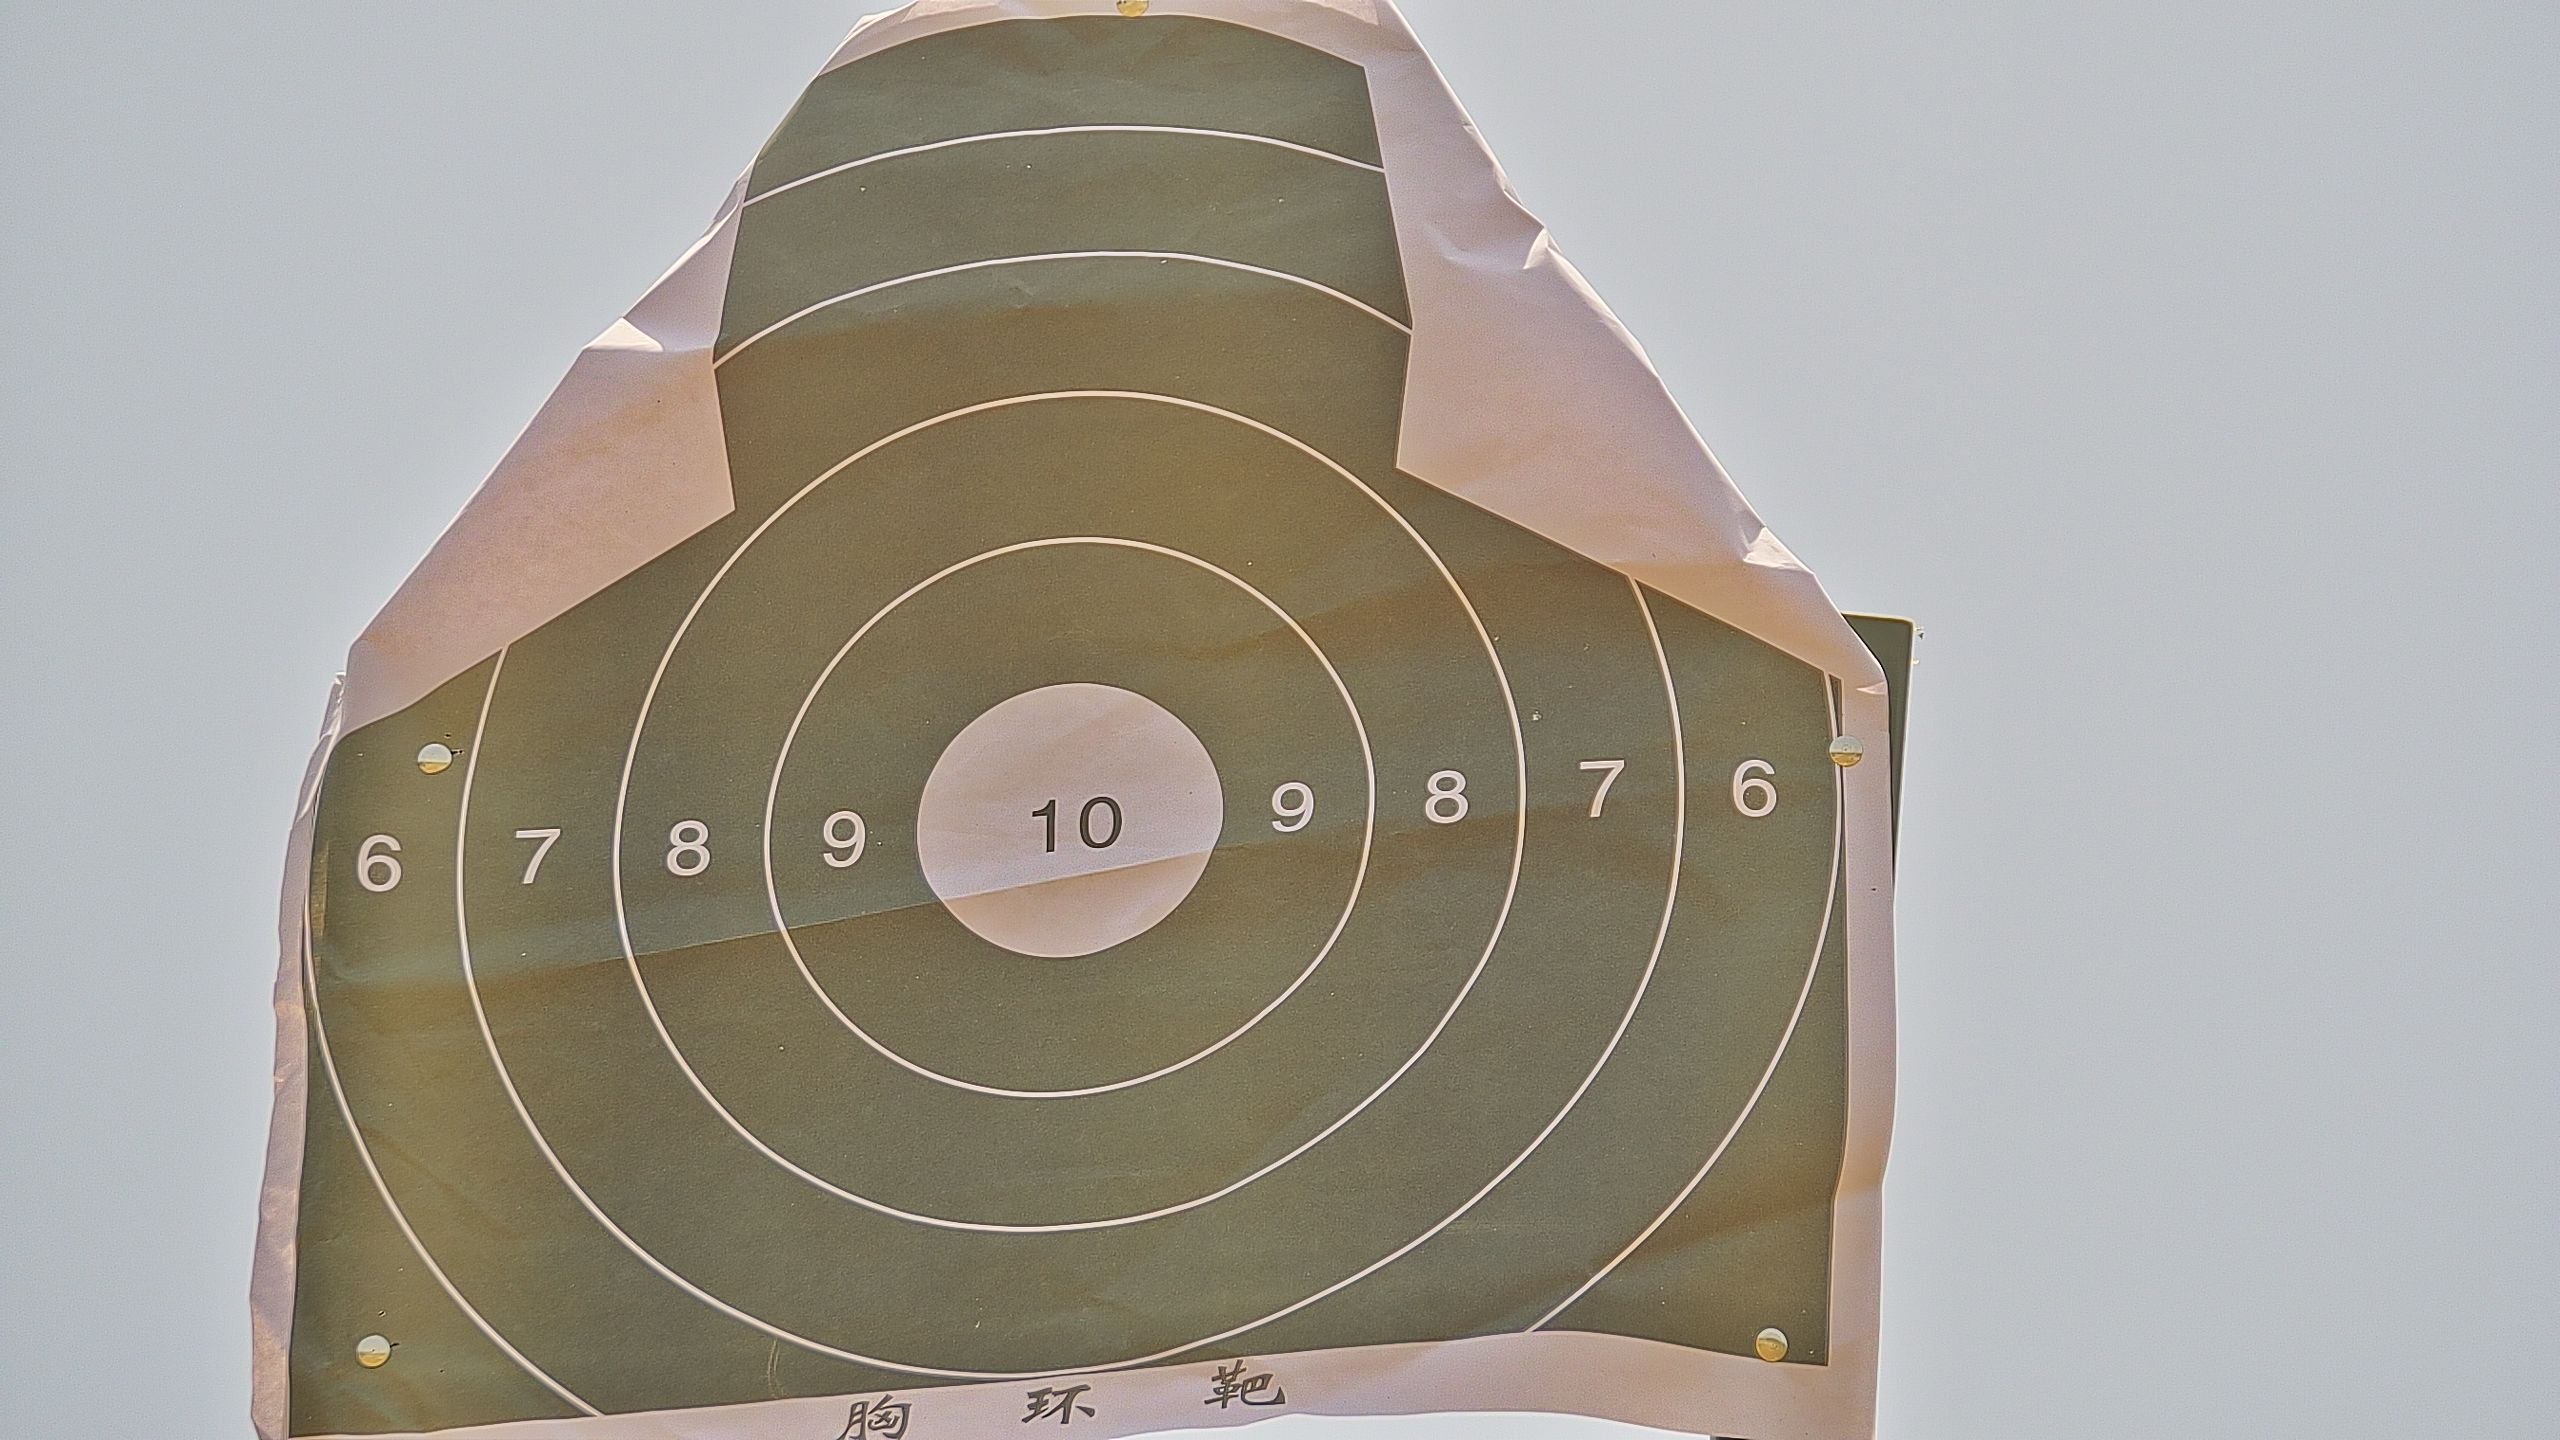kernel: (1065, 823, 1073, 825)
target: (285, 2, 1862, 1431)
ten: (911, 680, 1222, 964)
